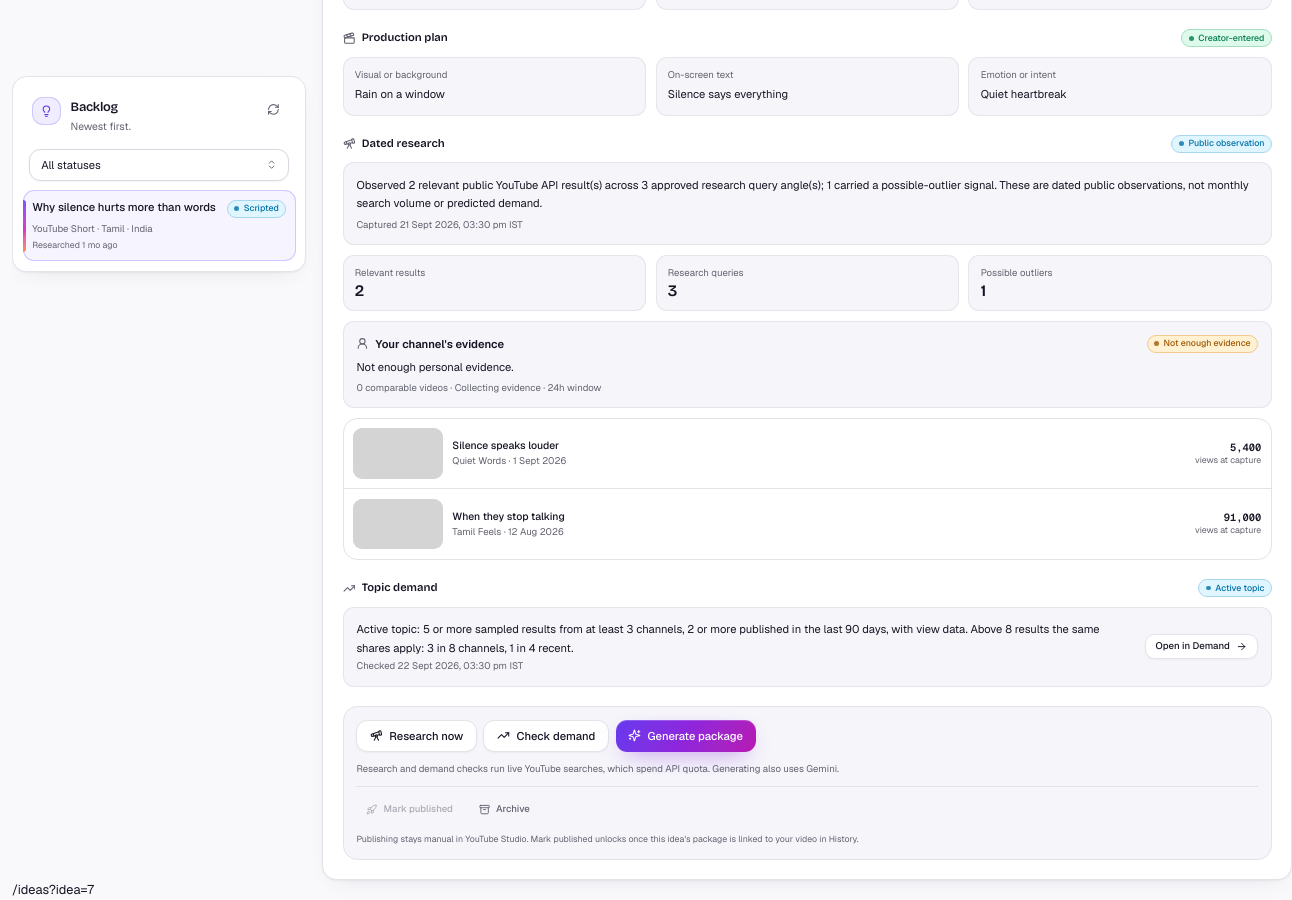
Test: IdeasPage › keeps Mark published locked until a video is linked
The width and height of the screenshot is (1292, 900).
(page scrolled)
Expected: the button "Mark published" is disabled, [356, 797, 463, 822]
Expected: the text "Mark published unlocks once" is shown, [356, 833, 859, 845]
Click the button "Archive".
click(504, 810)  # box [469, 797, 539, 822]
(page scrolled)
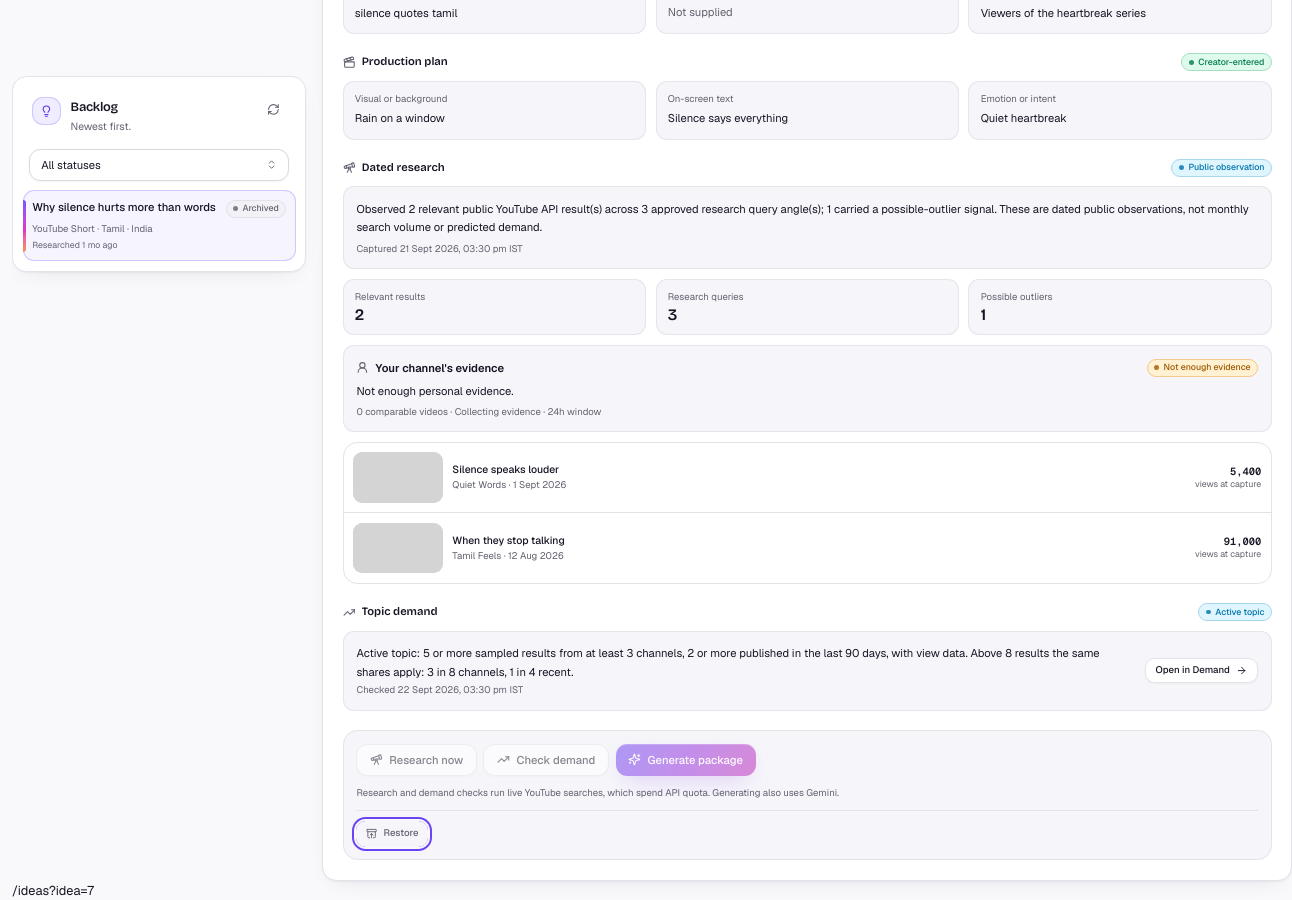
Result: the button "Restore" is shown at [356, 821, 428, 846]
Result: the button "Generate package" is disabled at [616, 744, 756, 776]
